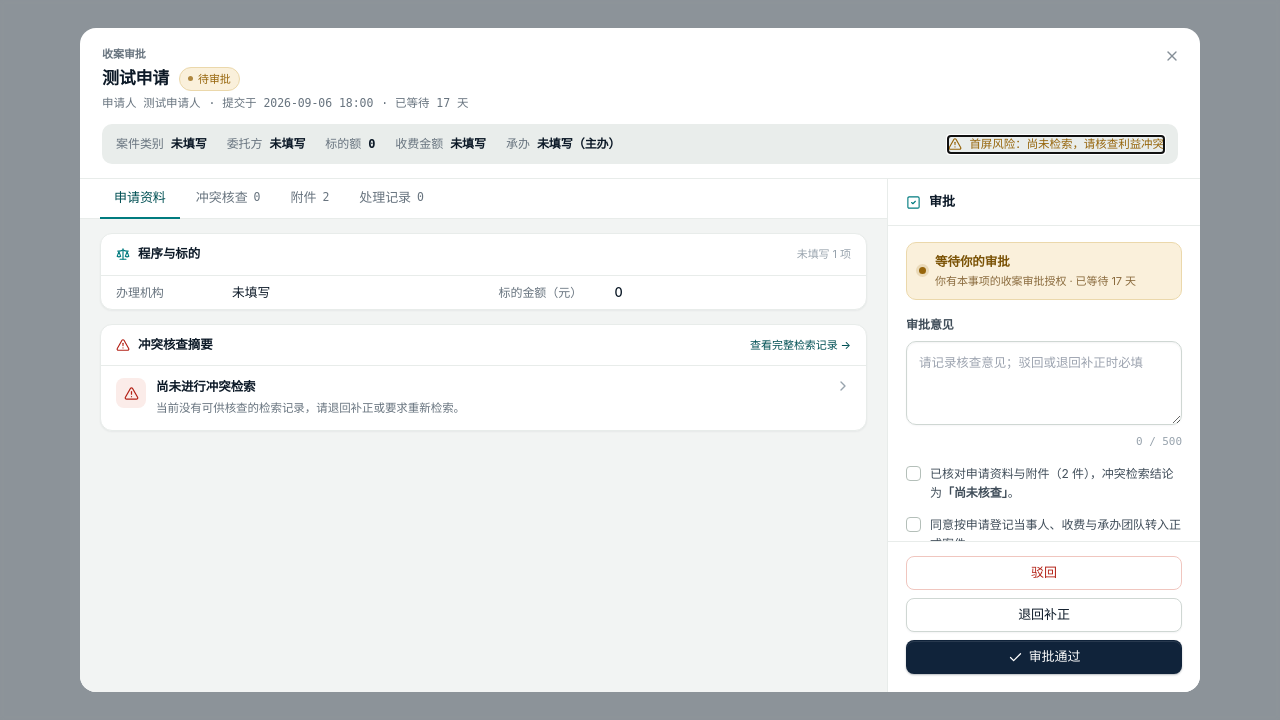
Test: 立案审批分区审阅 › 关键缺项和零金额可见，非关键缺项可展开，不隐藏已填资料
The image size is (1280, 720).
Expected: the text "办理机构" is shown, [116,285,164,300]
Expected: the text "0" next to "标的额" is shown, [368,137,375,151]
Click the button "未填写 1 项" at (824, 254), box [797,246,851,262]
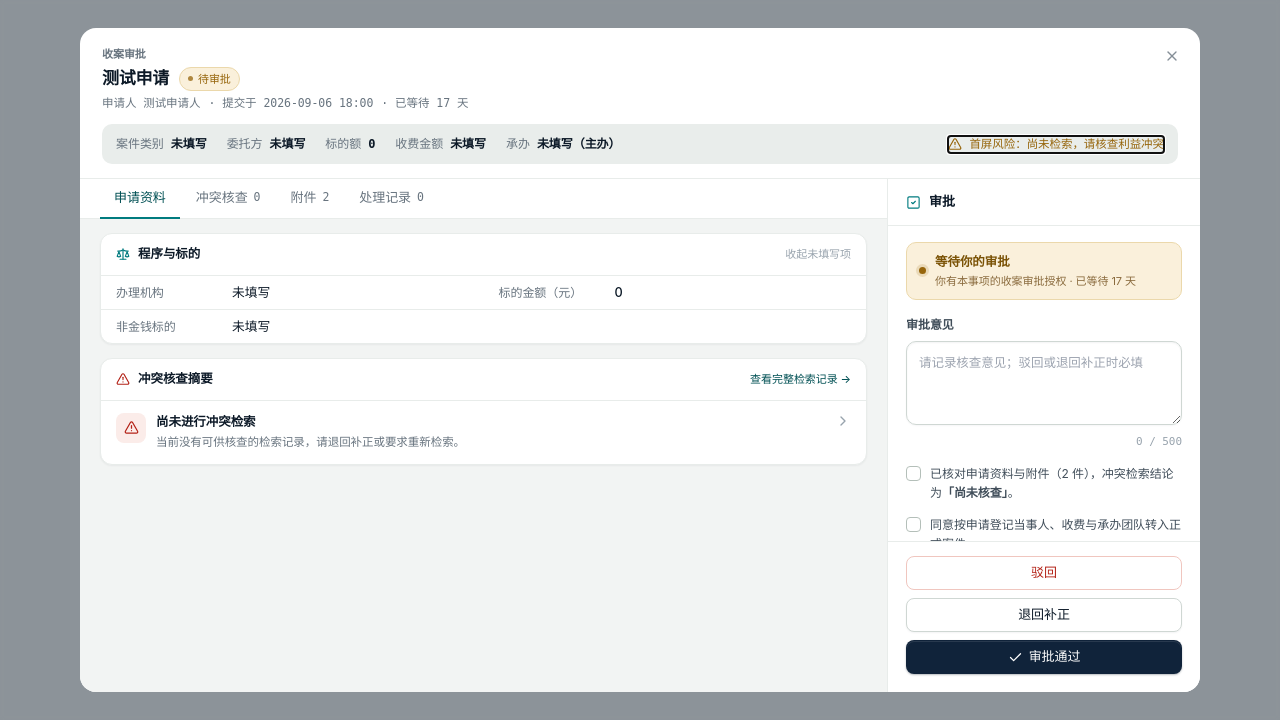
Now the button named "未填写 1 项" is expanded, box [785,246,851,262]
Now the text "非金钱标的" is shown, box [116,319,176,334]
